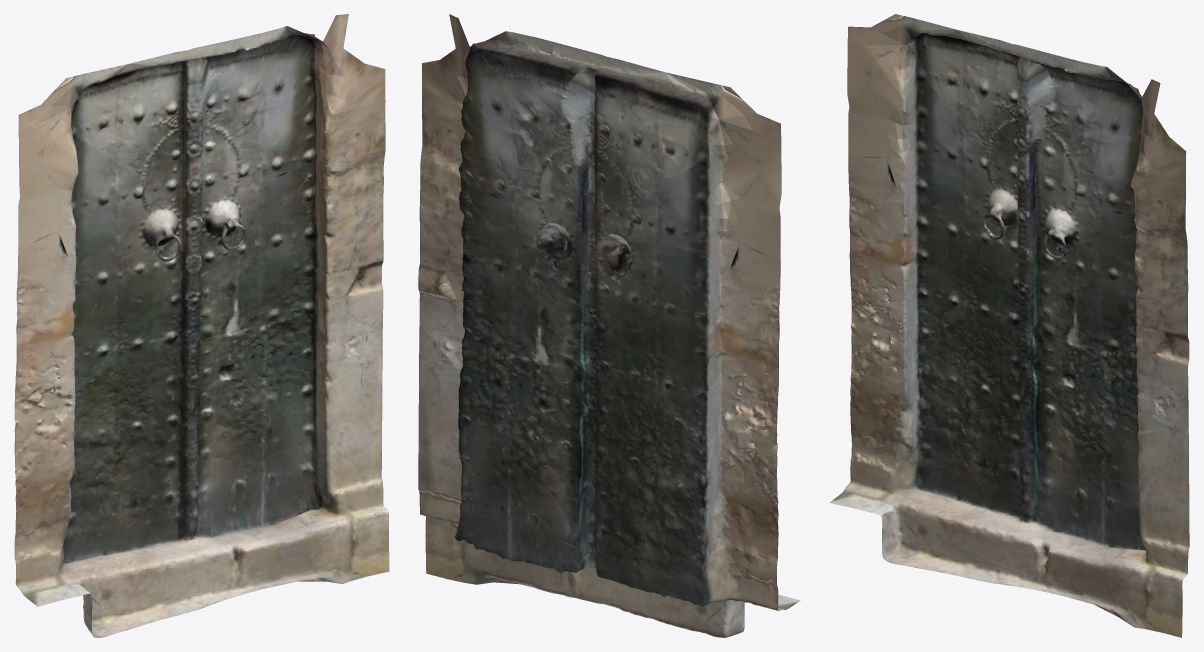
The model's file is traditional-door-medina-tunis.glb.
The picture shows the model from 3 angles, left to right: view 1: azimuth 30°, elevation 25°; view 2: azimuth 150°, elevation 25°; view 3: azimuth 330°, elevation 25°; orthographic projection. The views are drawn at different scales.
Parts seen in each view (by area): view 1: Object_3; view 2: Object_3; view 3: Object_3.
Boxes of the visible parts, x1,y1,x2,y2 form: Object_3: (14,14,389,637); Object_3: (418,14,800,637); Object_3: (830,14,1189,637).
Bounding box in the file's own units: 1.68 × 2.51 × 0.2861.
Materials: 1 (1 with a texture image).
